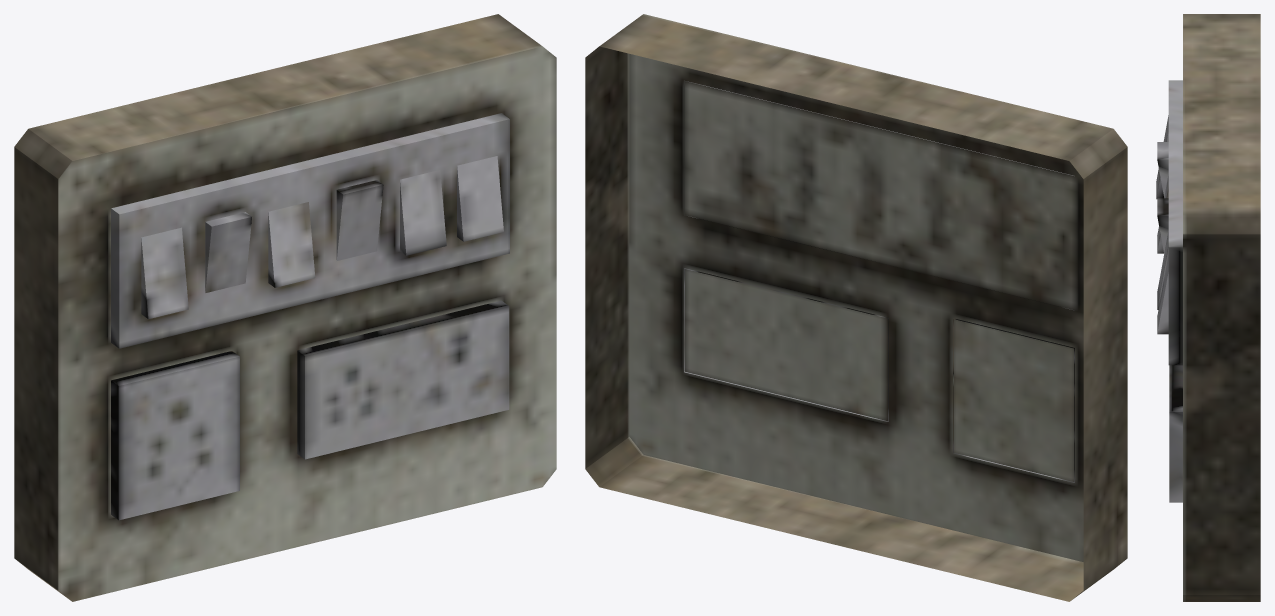
File: Switchboard_01.FBX
3 renders of one model, left to right at view 1: azimuth 30°, elevation 25°; view 2: azimuth 150°, elevation 25°; view 3: azimuth 270°, elevation 25°, orthographic. The views are drawn at different scales.
Visible parts, largest first — view 1: Switchboard_01; view 2: Switchboard_01; view 3: Switchboard_01.
Part boxes in pixels (bbox=[...]): Switchboard_01: bbox=[14, 14, 556, 601]; Switchboard_01: bbox=[585, 14, 1127, 601]; Switchboard_01: bbox=[1156, 14, 1260, 601].
Size of the model in its own units: 27.44 by 23.2 by 5.68.
